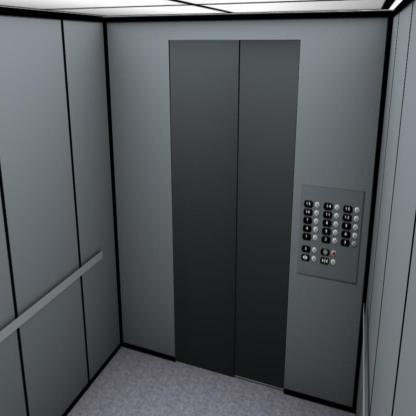1: (302, 232, 312, 240)
10: (303, 208, 312, 216)
11: (322, 210, 332, 218)
12: (342, 213, 352, 221)
13: (304, 199, 314, 207)
14: (323, 201, 333, 210)
2: (321, 235, 331, 243)
3: (340, 238, 350, 246)
4: (302, 224, 312, 232)
7: (303, 216, 312, 224)
blur: (321, 226, 331, 234), (322, 218, 332, 226), (301, 244, 311, 252), (320, 247, 330, 255), (340, 230, 351, 237), (341, 222, 352, 229), (342, 205, 353, 212), (331, 250, 336, 256)
close: (319, 256, 329, 264)
empty: (333, 212, 339, 220), (314, 201, 320, 208), (312, 234, 318, 241), (351, 240, 357, 247), (312, 226, 318, 232), (334, 204, 340, 210), (332, 229, 338, 235), (314, 209, 319, 216), (313, 217, 318, 224), (333, 220, 338, 227), (332, 237, 337, 244), (354, 206, 359, 213), (353, 215, 358, 222), (311, 255, 316, 262), (330, 258, 335, 265), (353, 224, 358, 230), (352, 232, 357, 238), (312, 246, 316, 253)
open: (300, 253, 310, 261)
